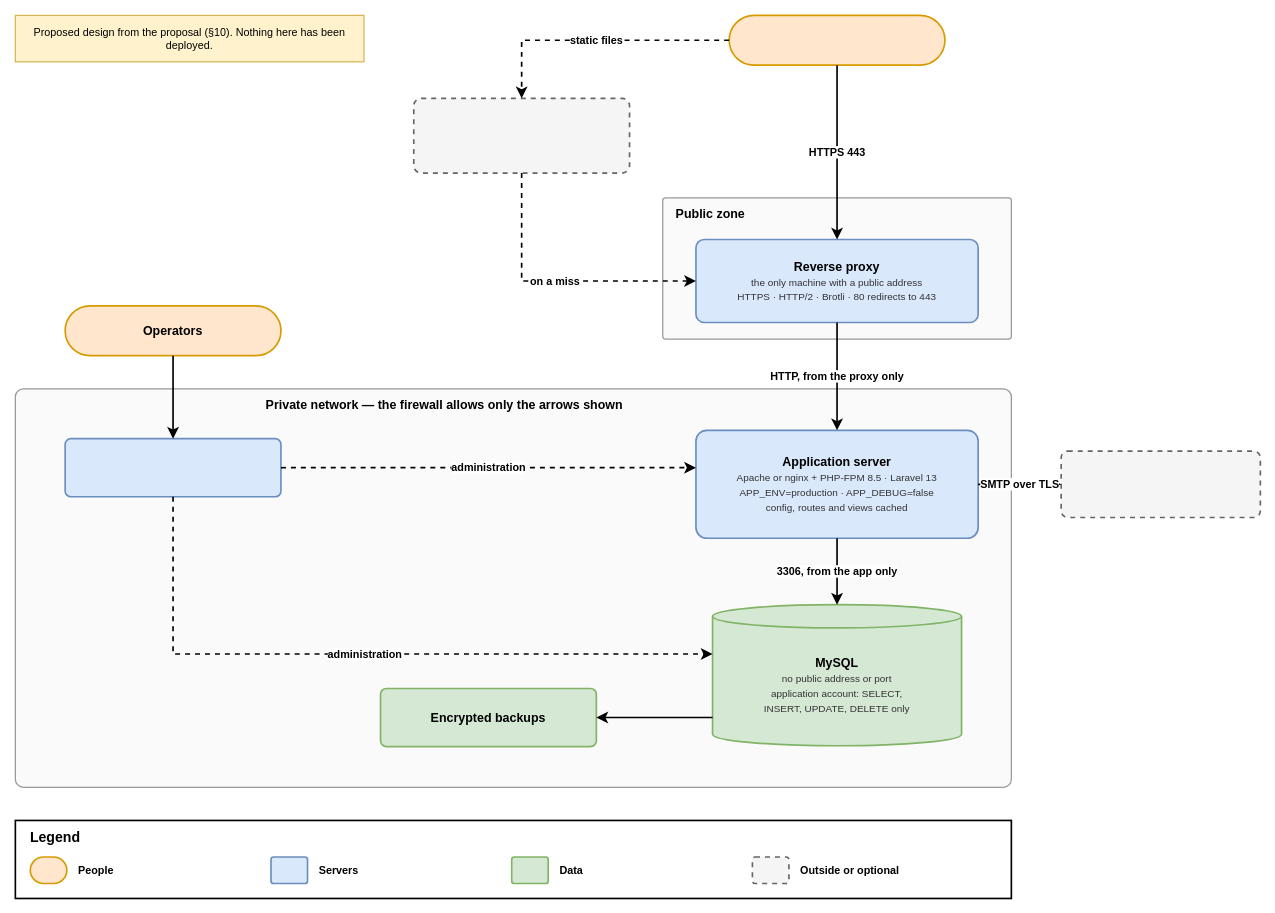
Image size: 1275x913. Some labels were removed from this diagram. The shapes that lost their labels are listed below. From the top down, each one's centre as x and y in pixels, then its label:
At point (836, 40): "Visitors and API clients".
At point (521, 135): "CDN — optional copies of build/ and images/ close to visitors".
At point (172, 467): "VPN or bastion host".
At point (1160, 484): "Mail service SMTP · password reset emails".
